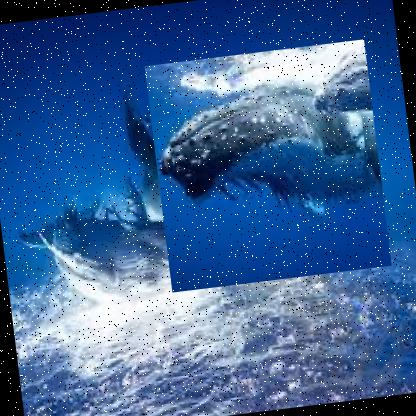blue_whale: (144, 38, 392, 292), (18, 136, 235, 309)
